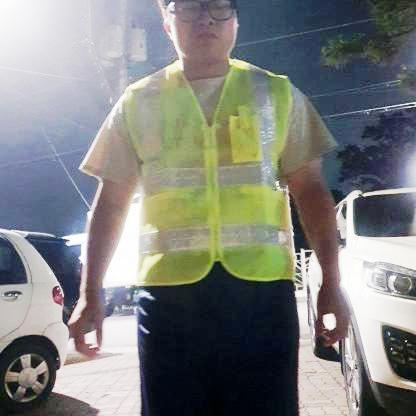vest: (124, 57, 298, 279)
